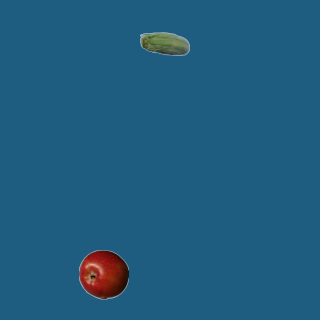Apple Braeburn: (78, 249, 128, 299)
Corn Husk: (139, 20, 189, 70)
